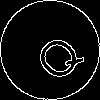Q: (25, 25, 88, 87)
